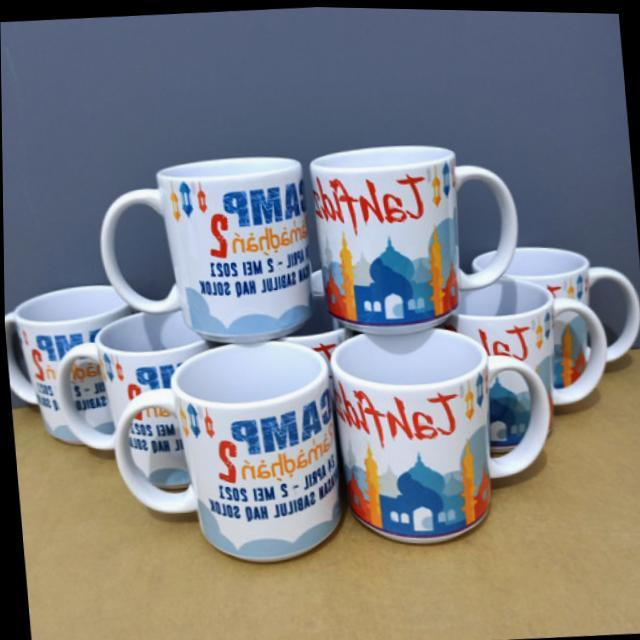cup: (299, 74, 539, 344)
